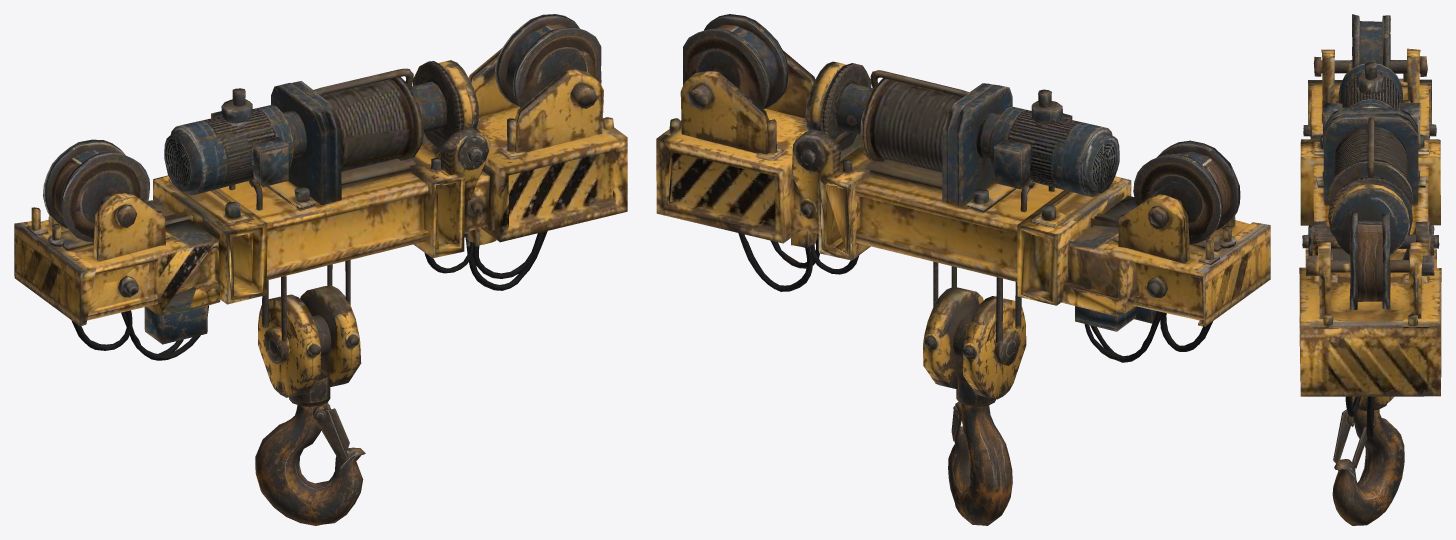
File: hoist.glb
3 renders of one model, left to right at view 1: azimuth 30°, elevation 25°; view 2: azimuth 150°, elevation 25°; view 3: azimuth 270°, elevation 25°, orthographic. The views are drawn at different scales.
Visible parts, largest first — view 1: hoist; view 2: hoist; view 3: hoist.
Boxes of the visible parts, x1=… form: hoist: x1=14, y1=14, x2=627, y2=525; hoist: x1=656, y1=14, x2=1270, y2=525; hoist: x1=1299, y1=14, x2=1441, y2=525.
Bounding box in the file's own units: 1 × 0.7902 × 0.2394.
1 material, 1 textured.
